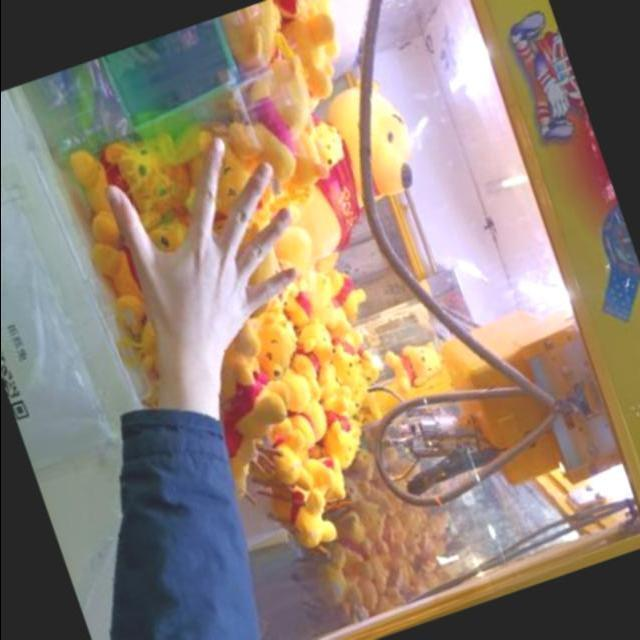hand: (73, 106, 354, 408)
